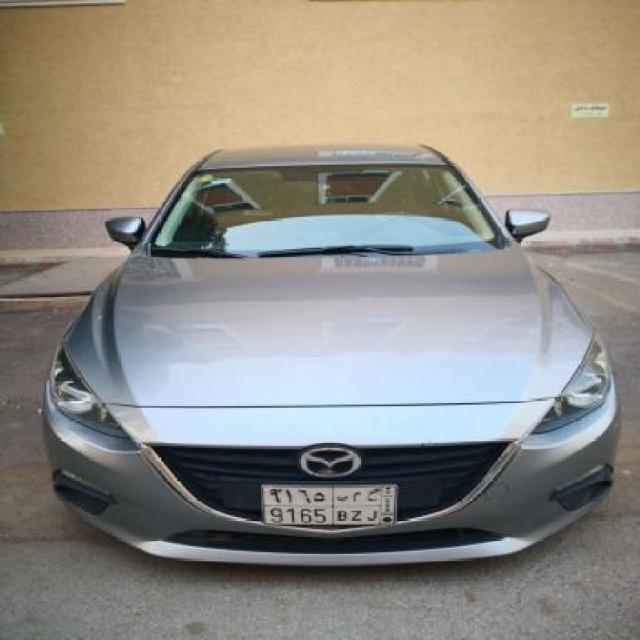license_plate: (258, 482, 400, 529)
